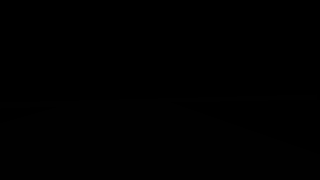turn_left: (173, 58, 189, 73)
